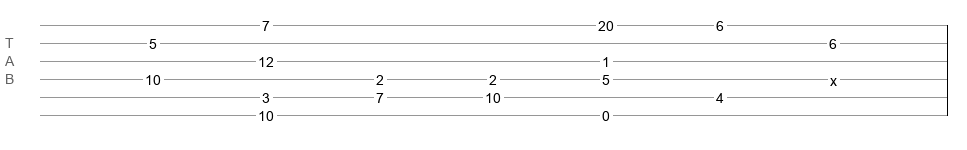0: (602, 108, 610, 118)
1: (602, 54, 610, 64)
10: (145, 72, 161, 82), (258, 108, 274, 118), (485, 90, 501, 100)
12: (258, 54, 274, 64)
2: (376, 72, 384, 82), (489, 72, 497, 82)
20: (598, 18, 614, 28)
3: (262, 90, 270, 100)
4: (716, 90, 724, 100)
5: (149, 36, 157, 46), (602, 72, 610, 82)
6: (716, 18, 724, 28), (829, 36, 837, 46)
7: (262, 18, 270, 28), (376, 90, 384, 100)
x: (830, 73, 837, 81)
